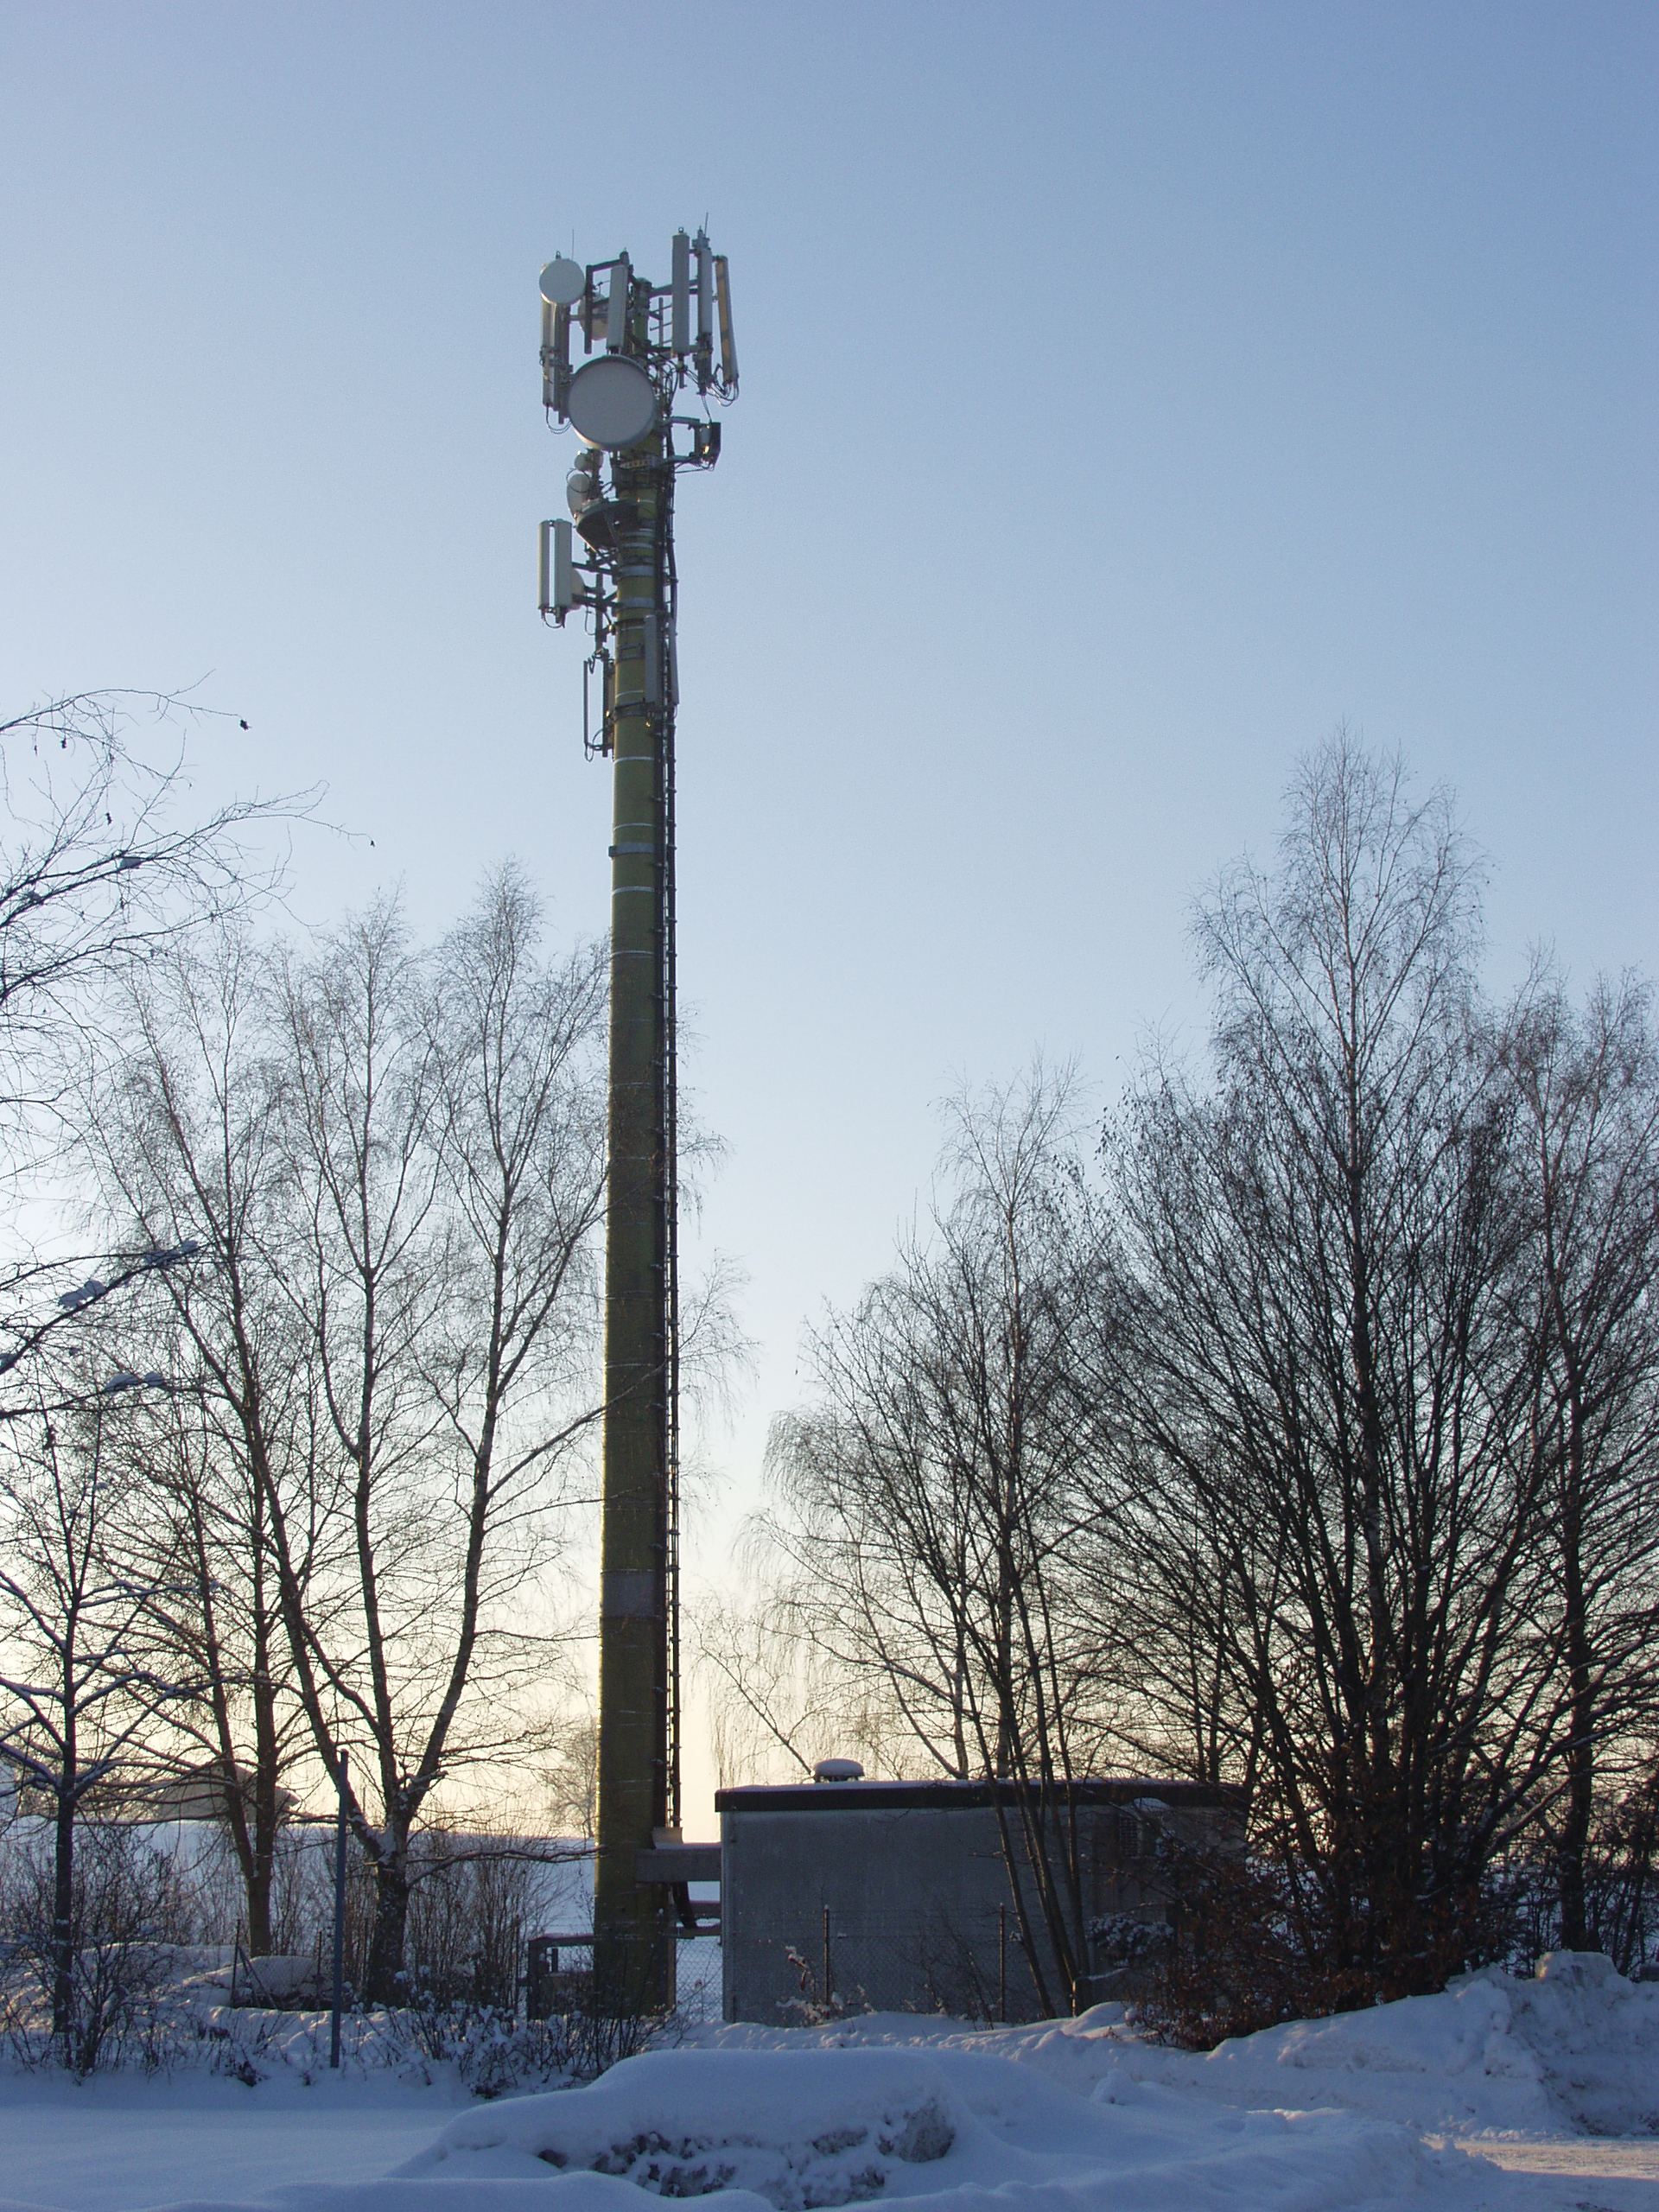a: (544, 517, 572, 617), (718, 268, 737, 380), (694, 242, 708, 362), (613, 261, 627, 347), (676, 239, 687, 343)
b: (573, 359, 653, 451), (538, 260, 580, 301)
